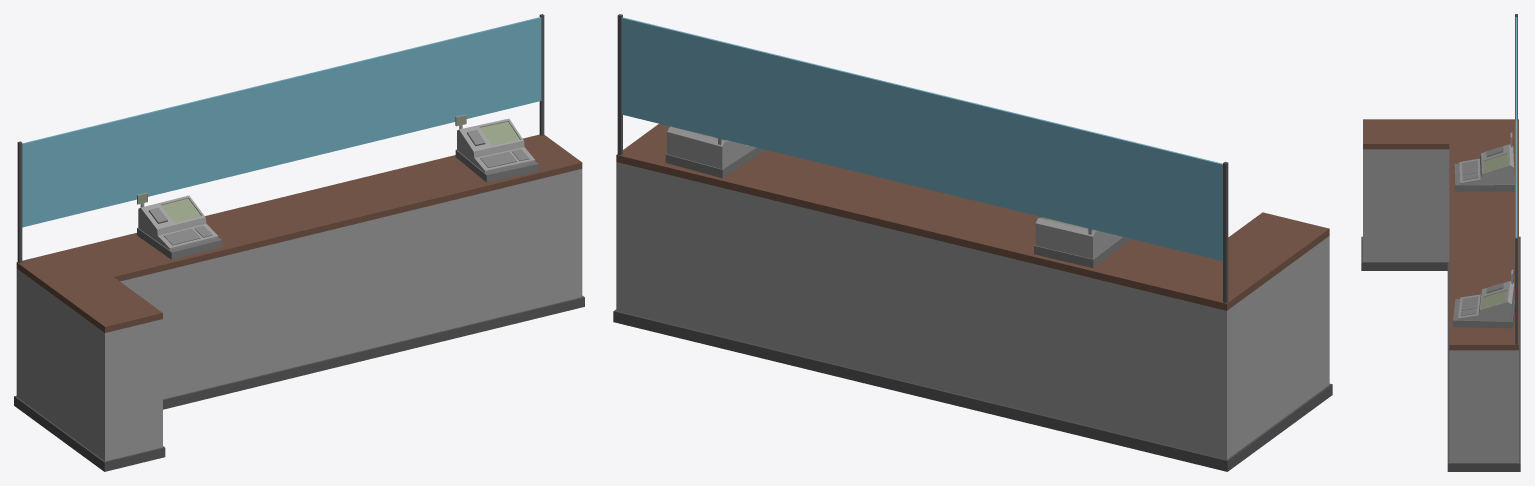
The model's file is SM_Props_CashRegister_02.fbx.
3 renders of one model, left to right at view 1: azimuth 30°, elevation 25°; view 2: azimuth 150°, elevation 25°; view 3: azimuth 270°, elevation 25°, orthographic. The views are drawn at different scales.
Parts seen in each view (by area): view 1: SM_Props_CashRegister_02; view 2: SM_Props_CashRegister_02; view 3: SM_Props_CashRegister_02.
Boxes of the visible parts, box(x1,y1,x2,y2) form: SM_Props_CashRegister_02: box(14, 14, 584, 471); SM_Props_CashRegister_02: box(613, 14, 1332, 471); SM_Props_CashRegister_02: box(1361, 14, 1520, 471).
Bounding box in the file's own units: 3.85 × 1.84 × 1.14.
